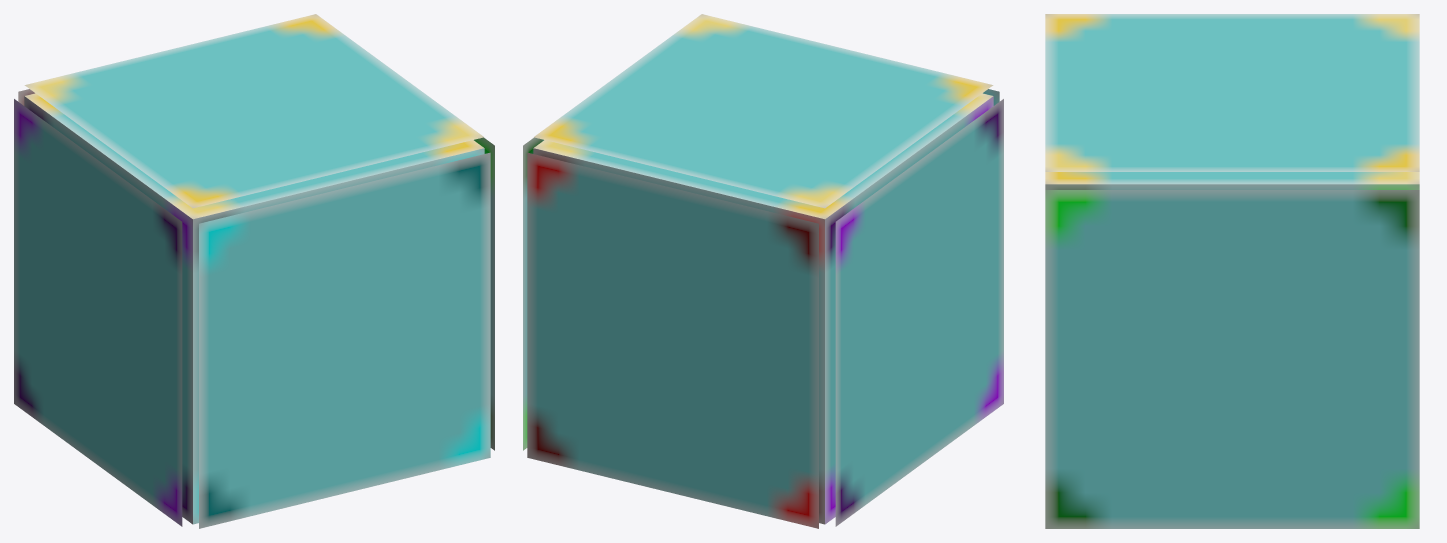
The model's file is block_extender_glass.obj.
The picture shows the model from 3 angles, left to right: view 1: azimuth 30°, elevation 25°; view 2: azimuth 150°, elevation 25°; view 3: azimuth 270°, elevation 25°; orthographic projection. The views are drawn at different scales.
Parts seen in each view (by area): view 1: Plane; view 2: Plane; view 3: Plane.
Boxes of the visible parts, x1,y1,x2,y2 form: Plane: (14,14,494,528); Plane: (523,14,1003,528); Plane: (1045,14,1419,528).
Size of the model in its own units: 0.9375 by 0.9062 by 0.9375.
